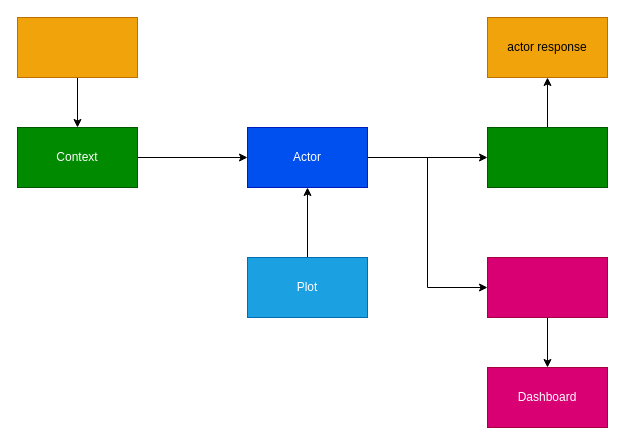
The diagram is 625 pixels wide and 445 high, and some of its shapes have lost their labels. Each missing label, with the centre of its shape:
"*Context" belongs at [547,157].
"Stats" belongs at [547,287].
"user request" belongs at [77,47].
